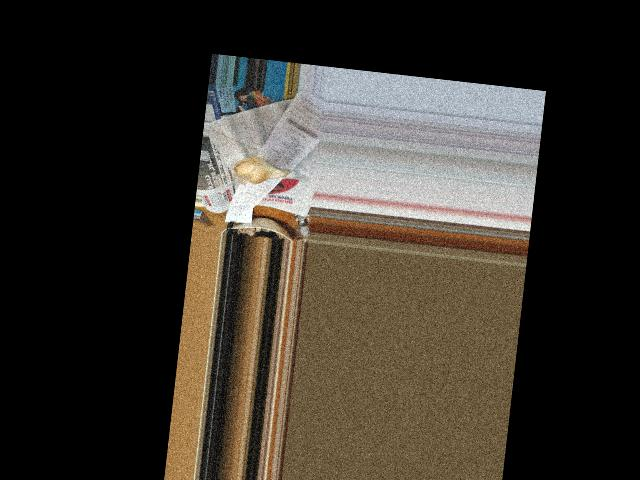onion: (231, 152, 285, 188)
